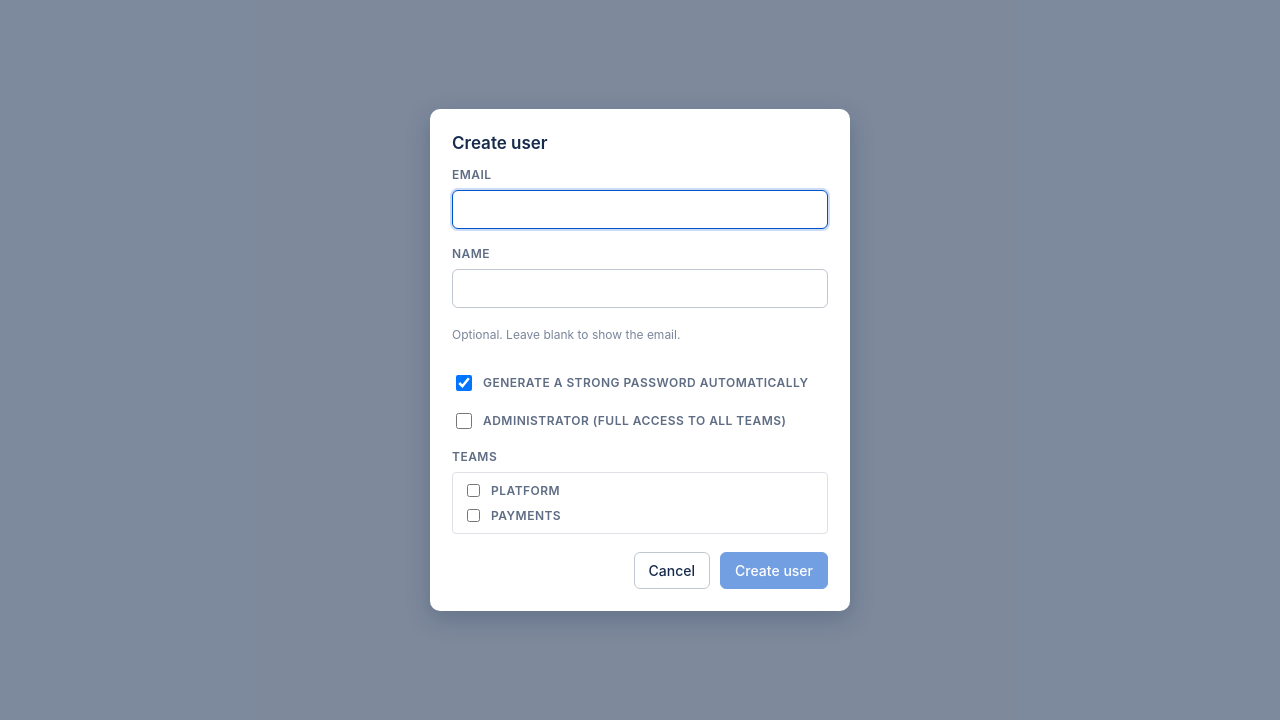
it: CreateUserDialog › sends password:null and name:null when auto-generate is on and the name is blank
The image size is (1280, 720).
In the field labelled "Email": (640, 210) [452,190,828,229], type "  spaced@dataart.com  "
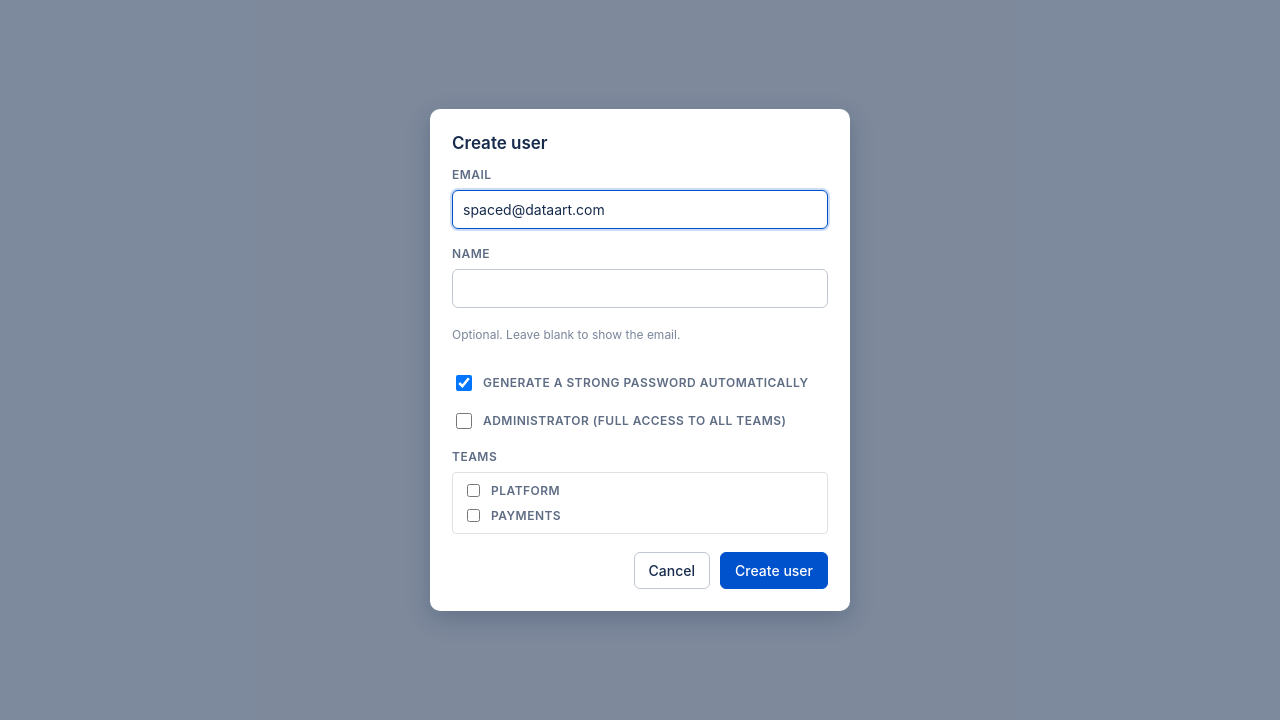
Click the button "Create user": (774, 571) [720,552,828,589]
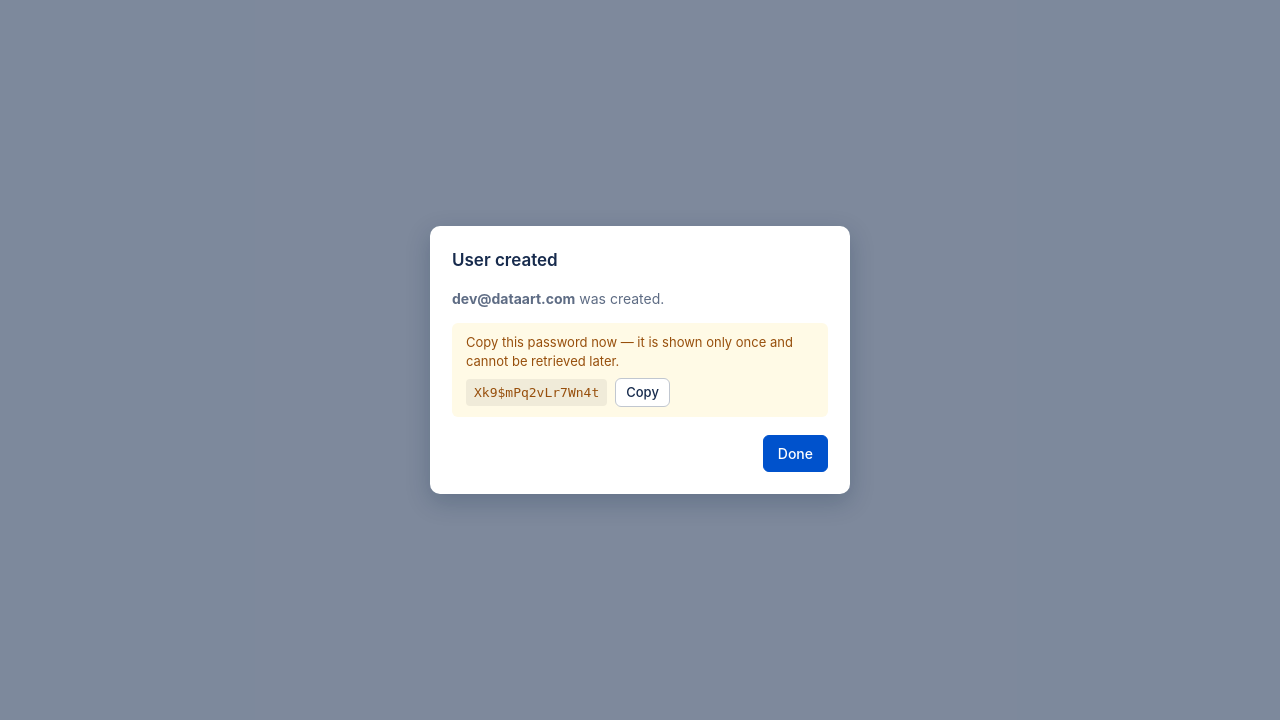
Result: the text with test id "generated-password" reads "Xk9$mPq2vLr7Wn4t" at [474,384,599,400]
